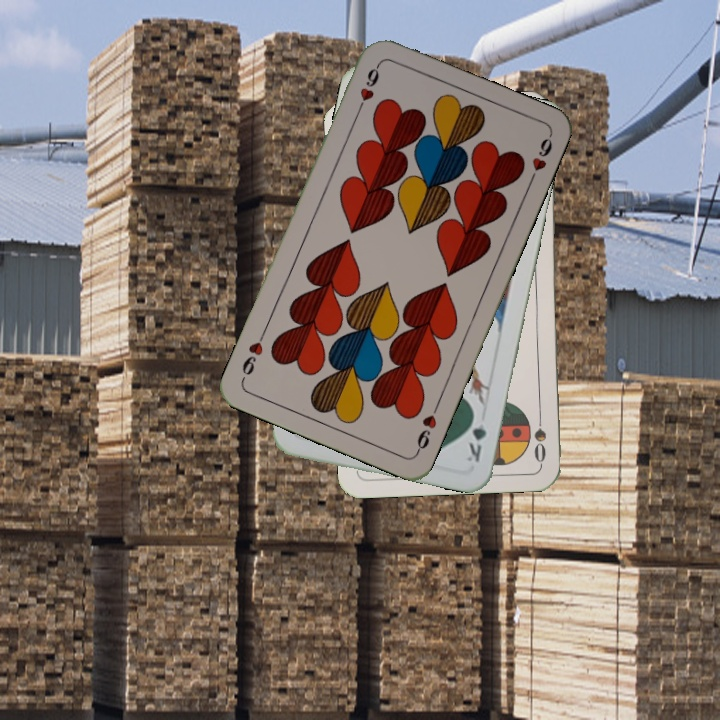GK: (463, 407, 489, 465)
H9: (352, 60, 382, 117), (412, 400, 442, 456)
SO: (530, 406, 549, 465)
